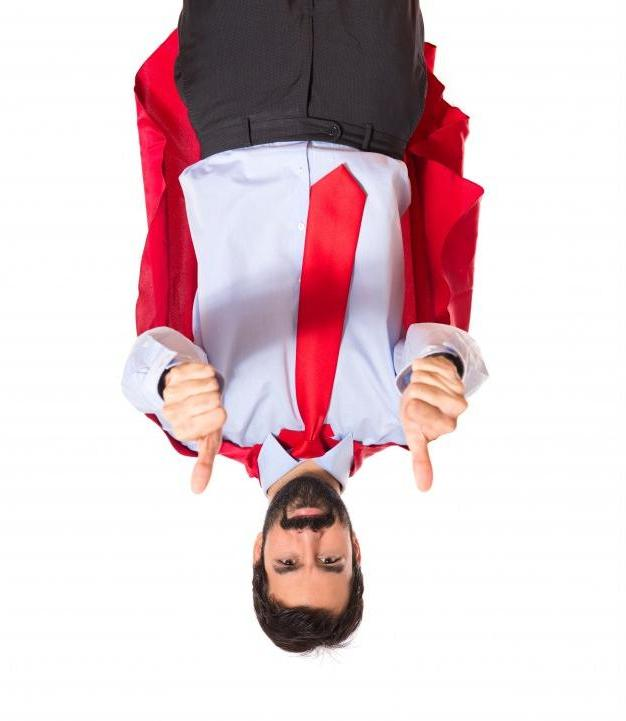thumbsdown: (403, 356, 469, 493), (161, 362, 226, 495)
